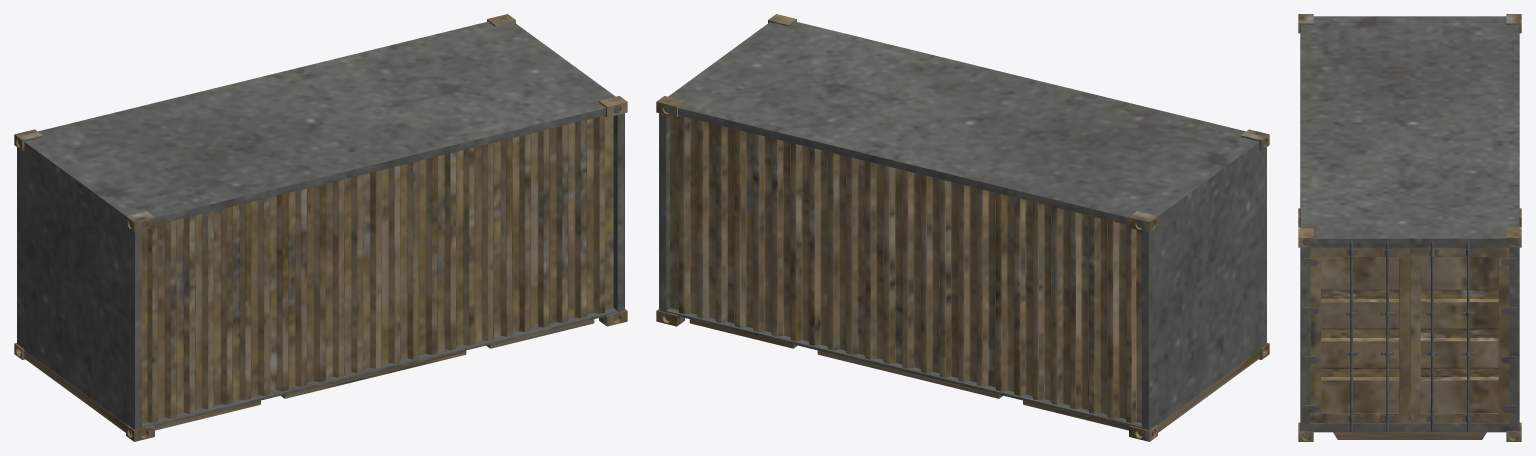
File: Container01.fbx
3 views of the same model, side by side, from view 1: azimuth 30°, elevation 25°; view 2: azimuth 150°, elevation 25°; view 3: azimuth 270°, elevation 25° (orthographic). The views are drawn at different scales.
Parts seen in each view (by area): view 1: Container.001; view 2: Container.001; view 3: Container.001.
Boxes of the visible parts, bbox=[...] form: Container.001: bbox=[14, 14, 627, 441]; Container.001: bbox=[656, 14, 1269, 441]; Container.001: bbox=[1298, 14, 1521, 441].
Size of the model in its own units: 621 by 264 by 261.
